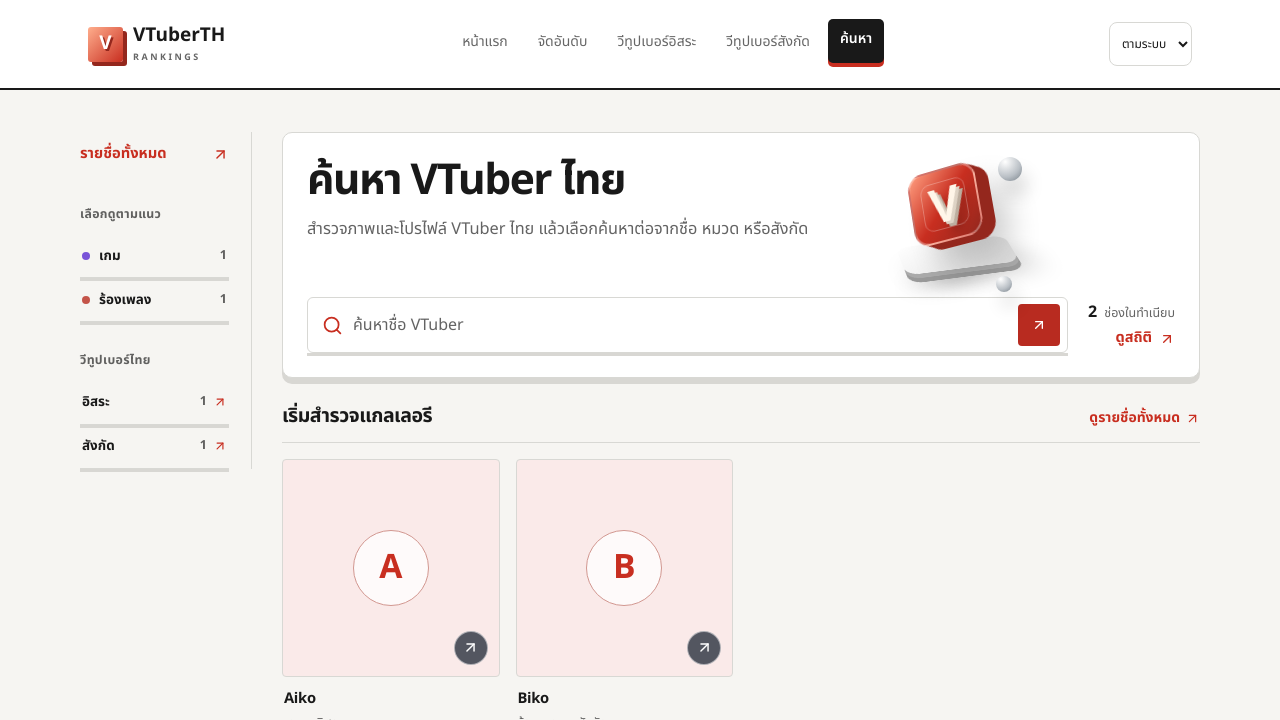
Test: Public discovery Home › filters creators by name inside discovery
Type "Aiko" into the search field with placeholder "ค้นหาชื่อ VTuber" at (681, 325), box left=353, top=304, right=1008, bottom=346
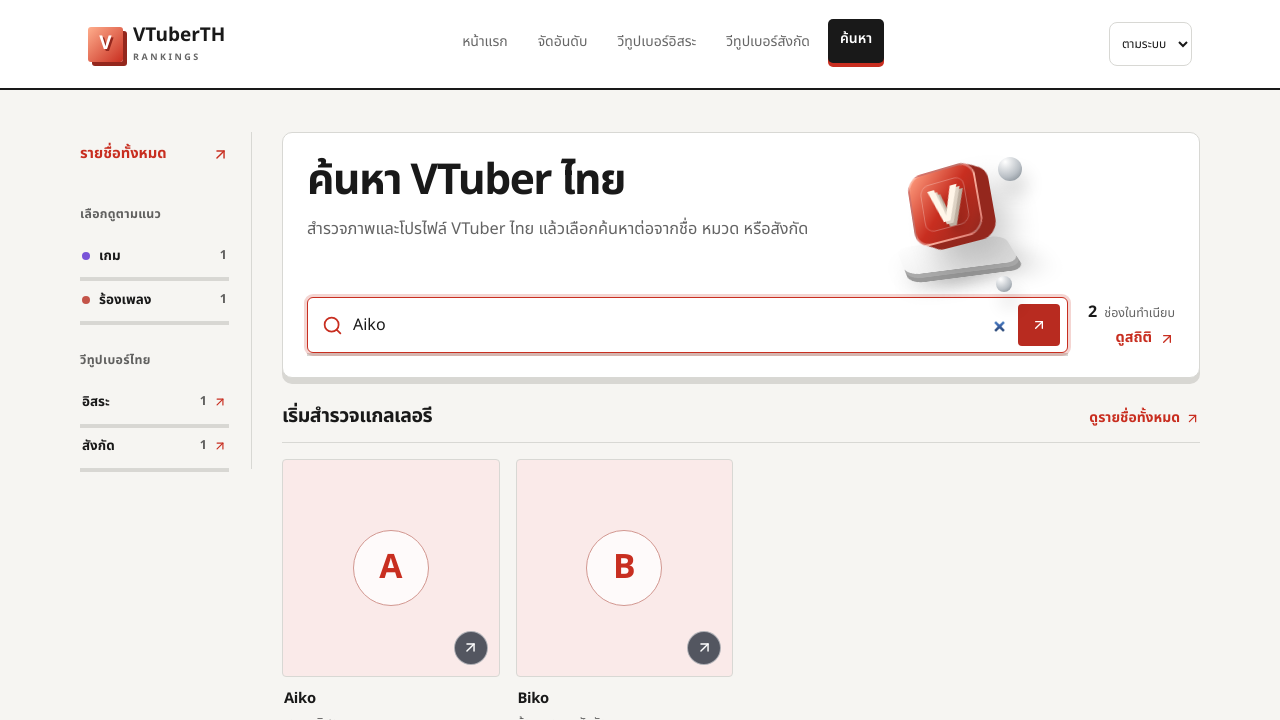
Click the submit button at (1039, 325), box left=1018, top=304, right=1060, bottom=346
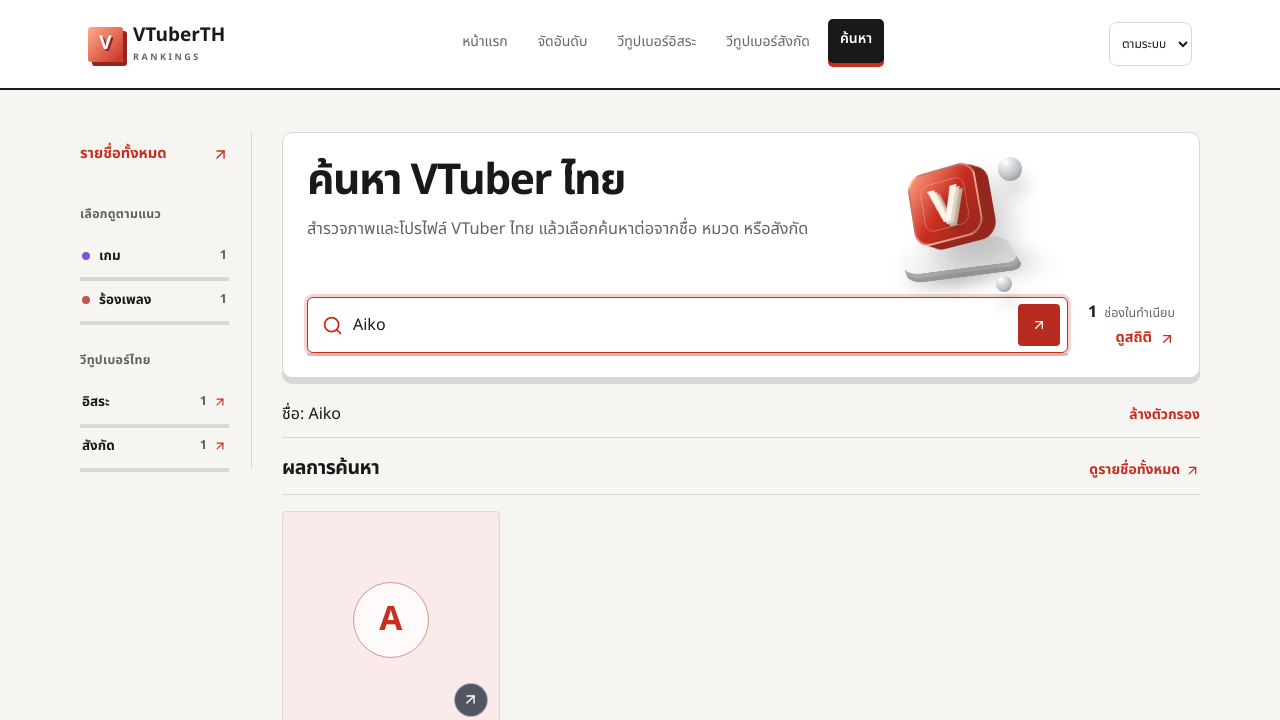
Now the number of links with class "discovery-card" is 1, box left=282, top=511, right=500, bottom=719
